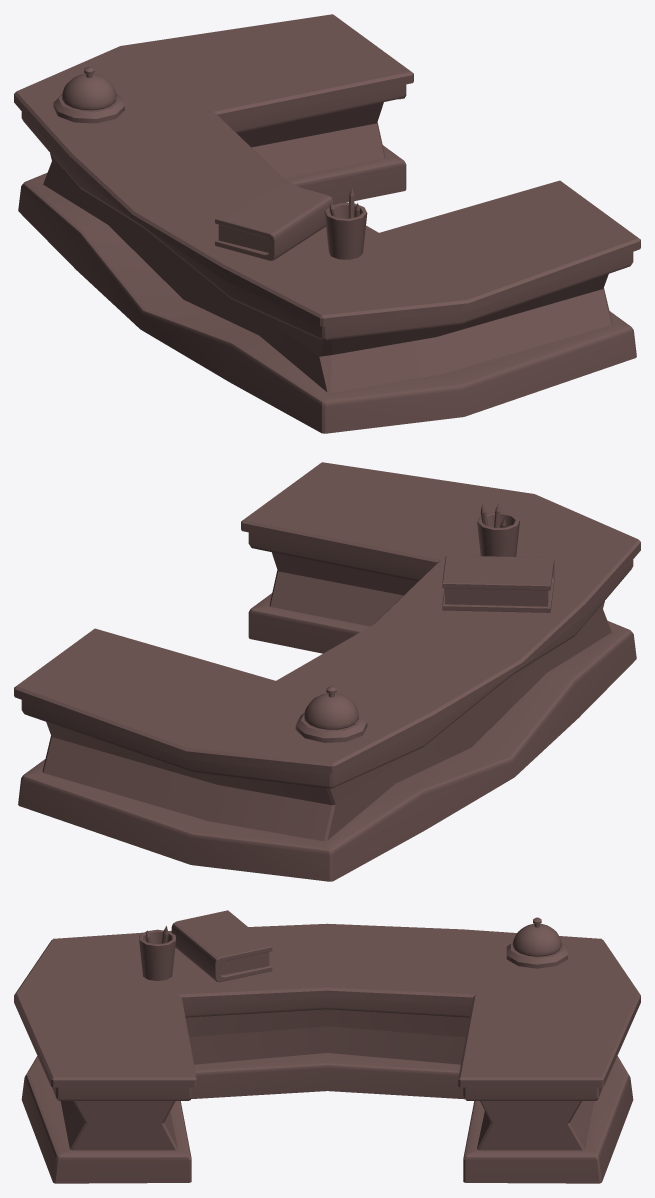
File: SM_RecptionDesk.fbx
3 renders of one model, top to bottom at view 1: azimuth 30°, elevation 25°; view 2: azimuth 150°, elevation 25°; view 3: azimuth 270°, elevation 25°, orthographic. The views are drawn at different scales.
Visible parts, largest first — view 1: SM_RecptionDesk; view 2: SM_RecptionDesk; view 3: SM_RecptionDesk.
Part boxes in pixels (<box>): SM_RecptionDesk: <box>14,14,640,433</box>; SM_RecptionDesk: <box>14,462,640,881</box>; SM_RecptionDesk: <box>14,910,640,1183</box>.
Size of the model in its own units: 271 by 130 by 462.
